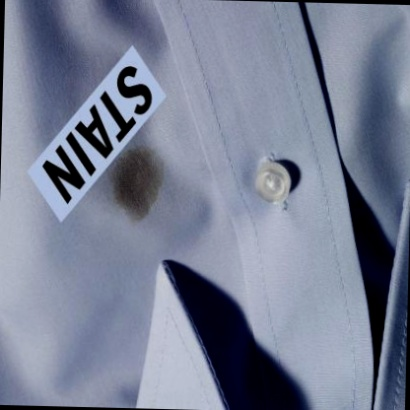coffee: (109, 151, 164, 219)
